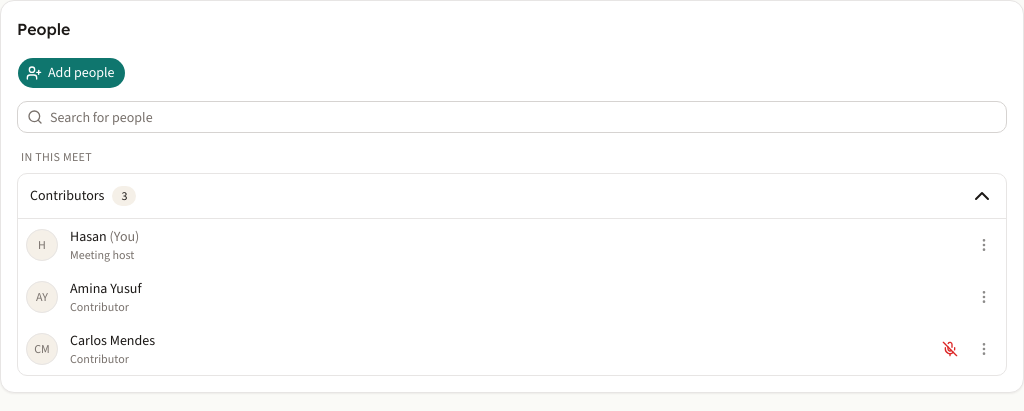
Test case: PeoplePanel › filters the list by search query
Type "amina" into the search field labelled "Search for people" at (512, 117), box [17,101,1007,133]
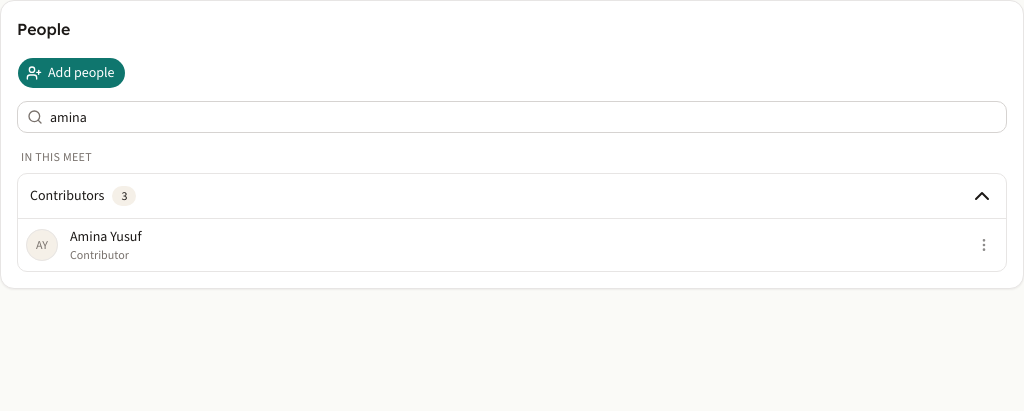
Expected: the text "Amina Yusuf" is shown, [70,227,142,246]
Result: the text "Carlos Mendes" is gone
